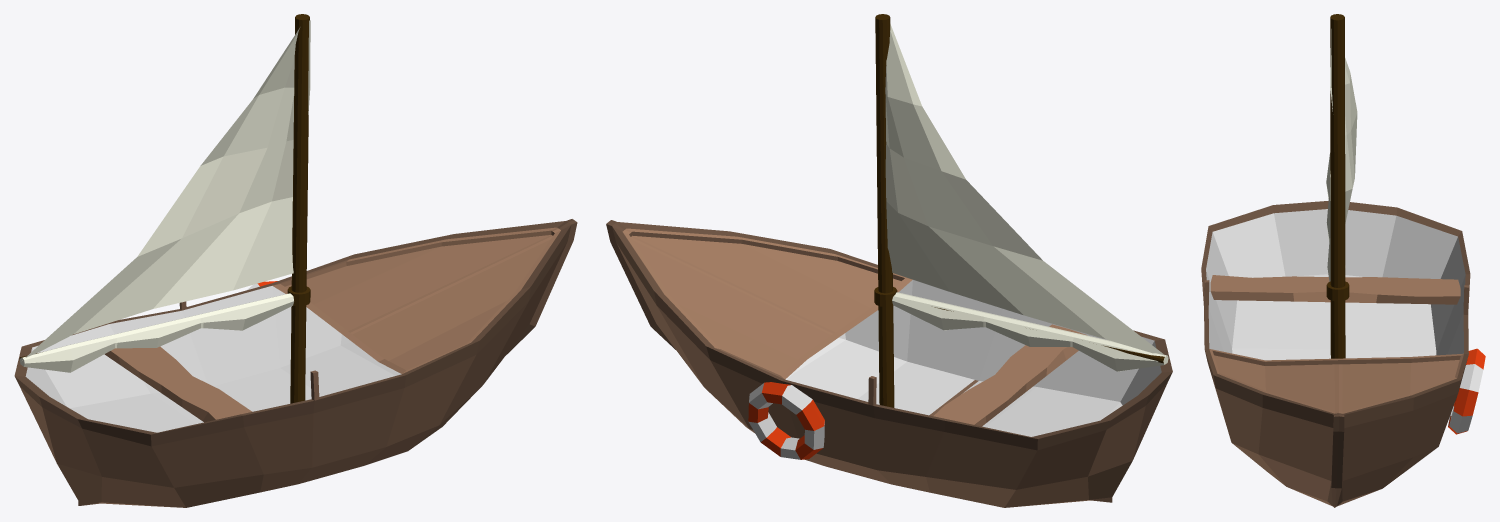
Rendered from boat.glb.
The picture shows the model from 3 angles, left to right: view 1: azimuth 30°, elevation 25°; view 2: azimuth 150°, elevation 25°; view 3: azimuth 270°, elevation 25°; orthographic projection.
Visible parts, largest first — view 1: Cube.086, Plane.062, Cylinder.018, Cube.014, Cube.088; view 2: Cube.086, Plane.062, Cube.014, Cylinder.018, Cube.088, Torus; view 3: Cube.086, Cube.088, Cylinder.018, Torus, Plane.062, Cube.014.
Boxes of the visible parts, x1,y1,x2,y2 form: Cube.086: [14, 219, 577, 507]; Plane.062: [22, 20, 310, 360]; Cylinder.018: [19, 14, 310, 403]; Cube.014: [20, 293, 293, 372]; Cube.088: [104, 346, 252, 422]; Cube.086: [606, 220, 1172, 507]; Plane.062: [885, 24, 1167, 357]; Cube.014: [892, 292, 1168, 371]; Cylinder.018: [874, 14, 1164, 407]; Cube.088: [933, 324, 1087, 426]; Torus: [748, 382, 824, 459]; Cube.086: [1201, 201, 1470, 507]; Cube.088: [1210, 275, 1460, 304]; Cylinder.018: [1326, 14, 1349, 358]; Torus: [1448, 348, 1485, 434]; Plane.062: [1330, 29, 1357, 223]; Cube.014: [1326, 153, 1345, 281].
Bounding box in the file's own units: 5 × 3.79 × 2.24.
